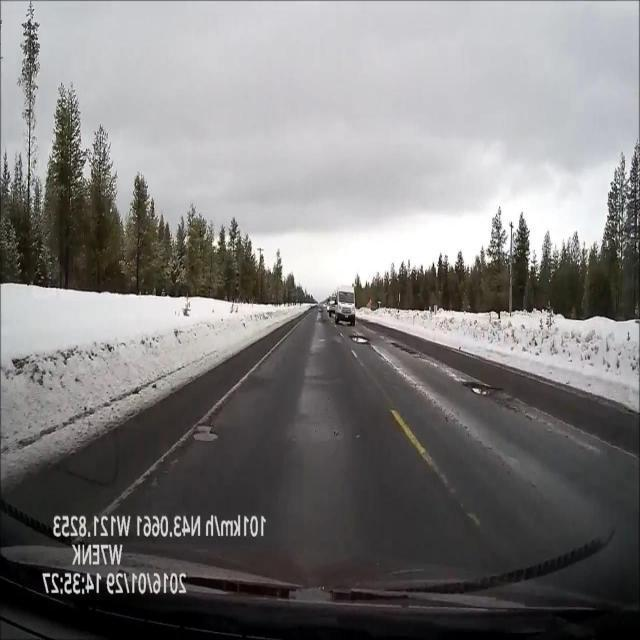Pothole: (471, 387, 491, 396), (350, 336, 368, 344)
